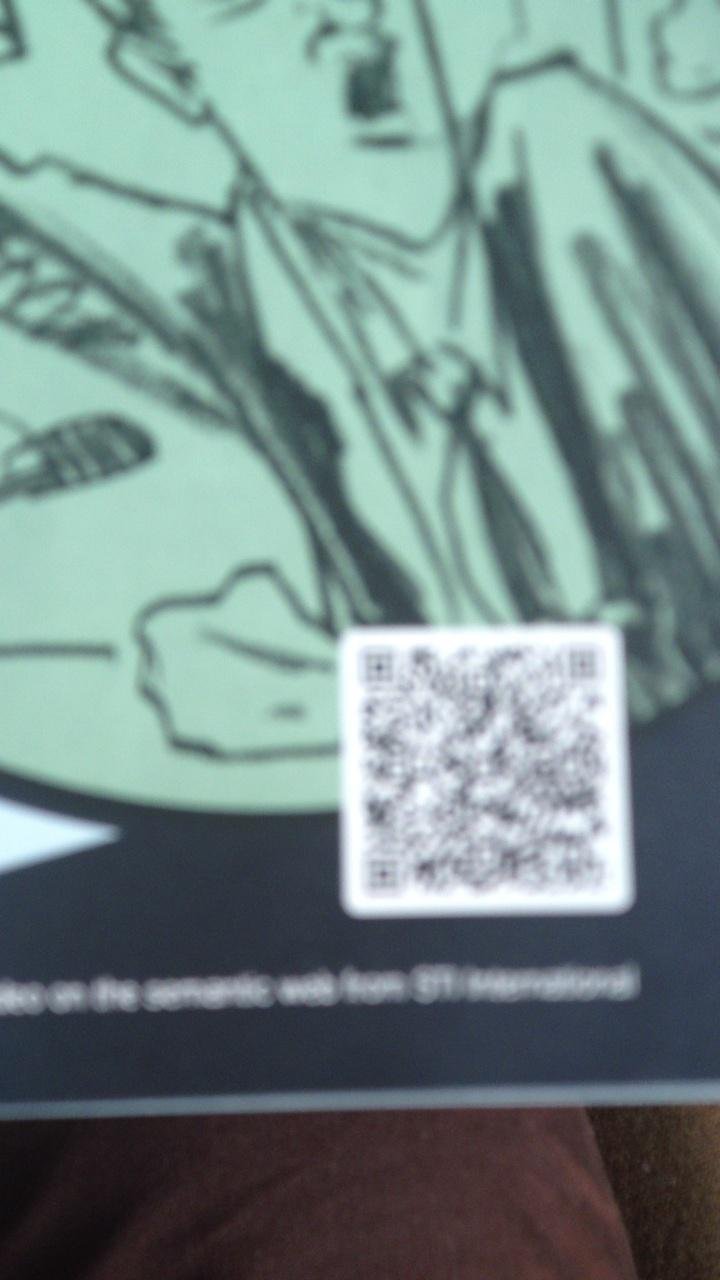Finder pattern: (360, 855, 405, 898), (356, 643, 398, 688), (562, 639, 603, 684)
